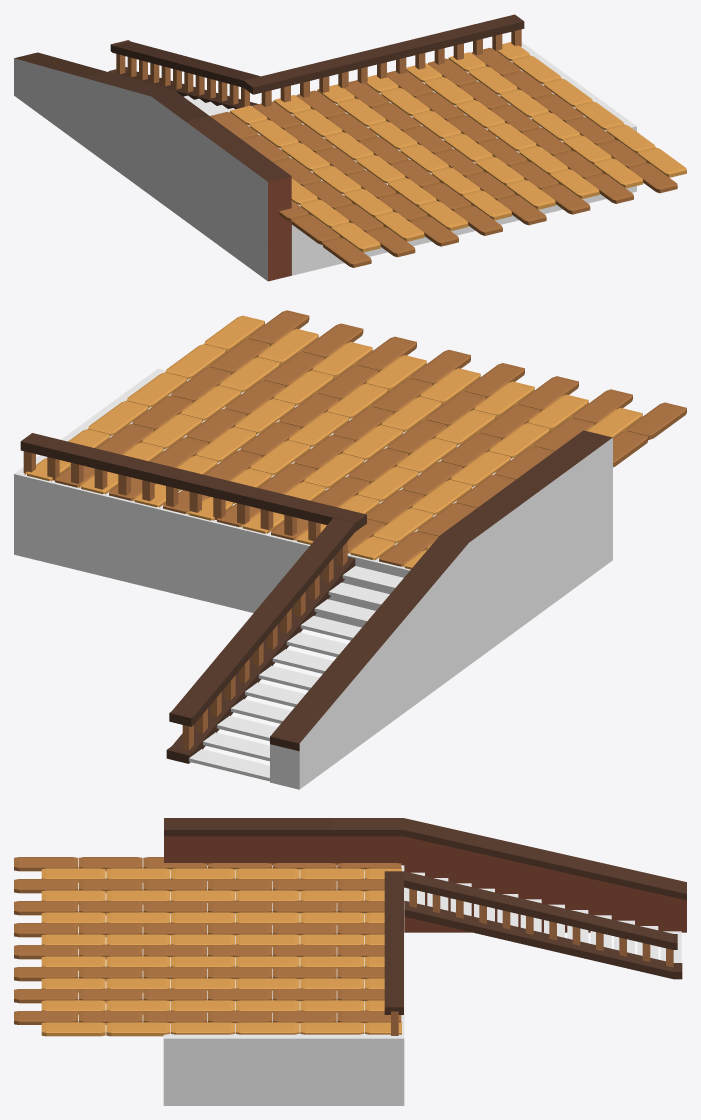
Rendered from StairCase.glb.
3 renders of one model, top to bottom at view 1: azimuth 30°, elevation 25°; view 2: azimuth 150°, elevation 25°; view 3: azimuth 270°, elevation 25°, orthographic. The views are drawn at different scales.
Parts seen in each view (by area): view 1: Cube.109; view 2: Cube.109; view 3: Cube.109.
Part boxes in pixels (<box>): Cube.109: <box>14,14,686,281</box>; Cube.109: <box>14,310,686,789</box>; Cube.109: <box>14,818,686,1105</box>.
Size of the model in its own units: 31 by 8.26 by 47.59.
